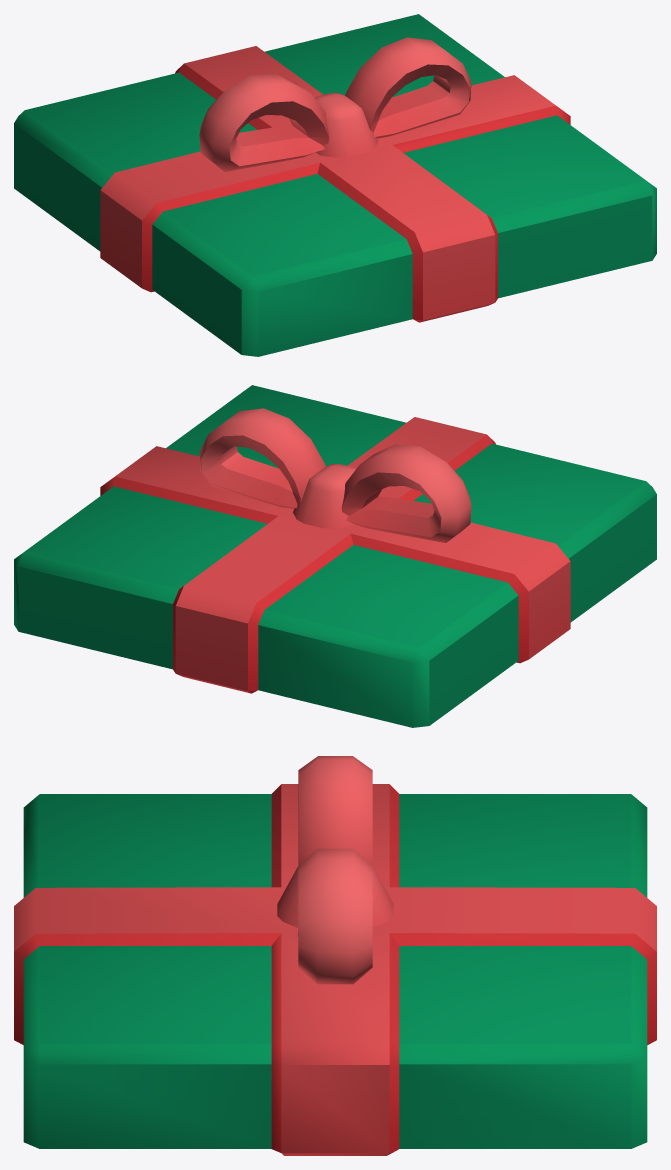
Rendered from Present_Base_Present_Top.obj.
The picture shows the model from 3 angles, top to bottom: view 1: azimuth 30°, elevation 25°; view 2: azimuth 150°, elevation 25°; view 3: azimuth 270°, elevation 25°; orthographic projection. The views are drawn at different scales.
Parts seen in each view (by area): view 1: Present_Top; view 2: Present_Top; view 3: Present_Top.
Boxes of the visible parts, x1,y1,x2,y2 form: Present_Top: [14, 14, 656, 356]; Present_Top: [14, 385, 656, 727]; Present_Top: [14, 756, 656, 1155].
Size of the model in its own units: 1.99 by 0.7377 by 1.99.
1 material, 1 textured.
